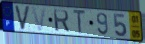5: (112, 13, 128, 38)
9: (96, 12, 109, 36)
R: (52, 9, 71, 34)
T: (72, 9, 87, 36)
V: (13, 4, 32, 32), (30, 6, 48, 33)
